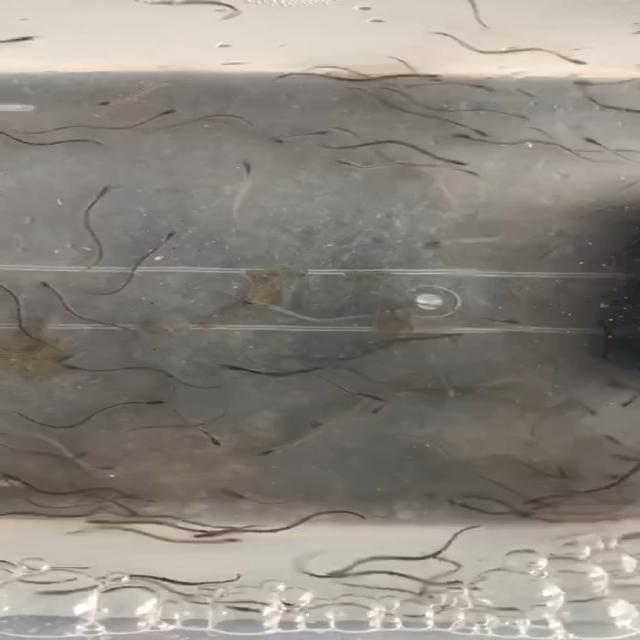active_glass_eel: (258, 437, 298, 464), (426, 491, 474, 511), (420, 577, 484, 592), (213, 358, 265, 374), (572, 395, 609, 417), (469, 601, 522, 616), (29, 585, 85, 599), (1, 30, 44, 48), (404, 68, 450, 84), (573, 74, 617, 90), (318, 566, 372, 579), (155, 230, 189, 250), (87, 460, 124, 478), (342, 388, 389, 402), (140, 104, 181, 120), (233, 157, 261, 180), (439, 155, 478, 171), (75, 442, 106, 462), (455, 124, 499, 138), (128, 392, 169, 407), (329, 157, 372, 171), (88, 94, 128, 109), (374, 396, 404, 416), (546, 52, 592, 65), (132, 491, 166, 508), (192, 525, 226, 542), (218, 532, 253, 548), (240, 299, 282, 312), (492, 315, 531, 329), (467, 82, 508, 95), (520, 493, 558, 507), (260, 129, 288, 147), (40, 278, 68, 296), (204, 430, 228, 450), (95, 180, 116, 202), (86, 513, 119, 527), (300, 129, 340, 140), (509, 85, 542, 98), (421, 238, 454, 251), (580, 135, 610, 149), (619, 393, 640, 413), (449, 133, 482, 144), (55, 359, 81, 372), (580, 85, 600, 100)
